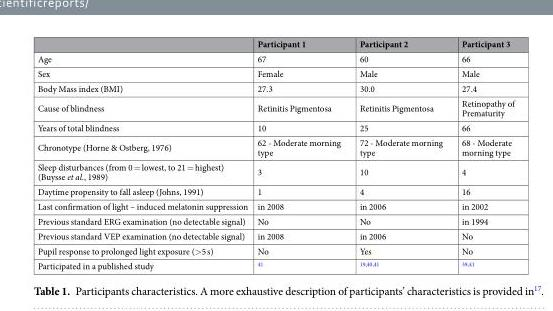table: (36, 37, 513, 271)
table column: (36, 37, 251, 271), (349, 37, 451, 271), (251, 37, 349, 271), (451, 37, 513, 271)
table column header: (36, 37, 513, 50)
table row: (36, 134, 513, 159), (36, 95, 513, 119), (36, 159, 513, 183), (36, 50, 513, 65), (36, 65, 513, 80), (36, 80, 513, 95), (36, 119, 513, 134), (36, 183, 513, 198), (36, 198, 513, 213), (36, 213, 513, 228), (36, 228, 513, 243), (36, 243, 513, 258), (36, 37, 513, 50), (36, 258, 513, 271)
